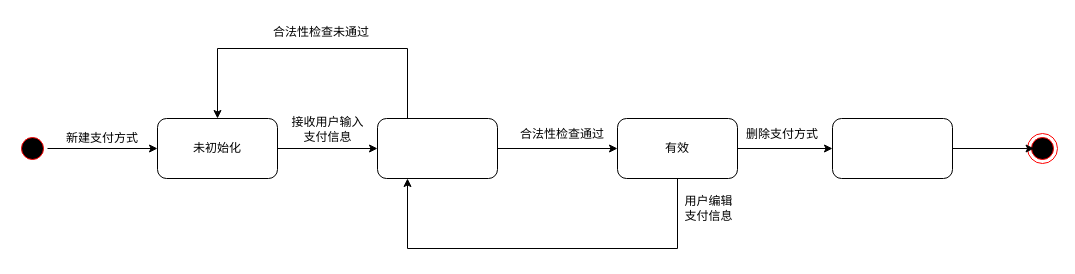
Some shapes in this 1075 by 274 pixel diagram are drawn without their labels. Each missing label, with the centre of its shape:
"失效" goes at pixel 892 148.
"待审核" goes at pixel 437 148.
